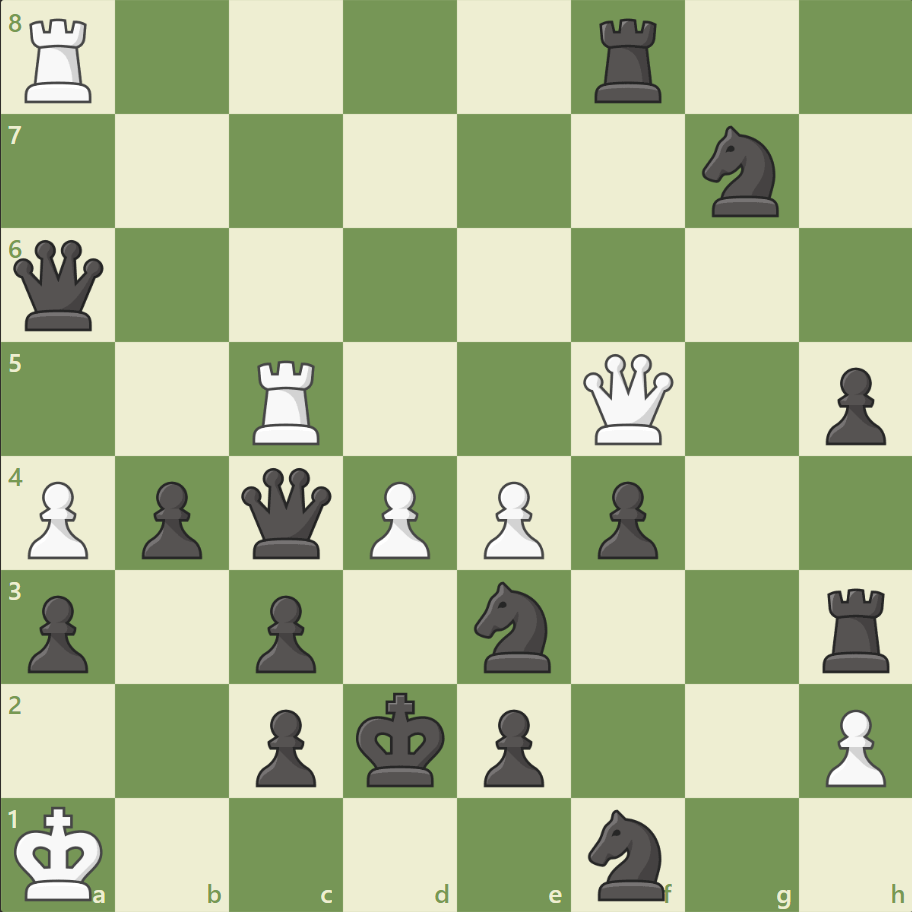K: (11, 798, 111, 906)
P: (20, 473, 95, 564), (474, 473, 549, 564), (361, 473, 435, 564), (815, 700, 889, 791)
Q: (578, 349, 677, 449)
R: (19, 12, 102, 109), (246, 352, 329, 449)
k: (351, 685, 451, 793)
n: (692, 121, 789, 223), (465, 575, 562, 677), (579, 802, 676, 904)
p: (133, 473, 208, 564), (20, 586, 95, 677), (247, 586, 322, 677), (247, 700, 322, 791), (474, 700, 549, 791), (815, 359, 889, 450), (588, 473, 662, 564)
q: (10, 236, 109, 335), (237, 463, 336, 562)
r: (587, 12, 670, 109), (814, 579, 897, 676)
